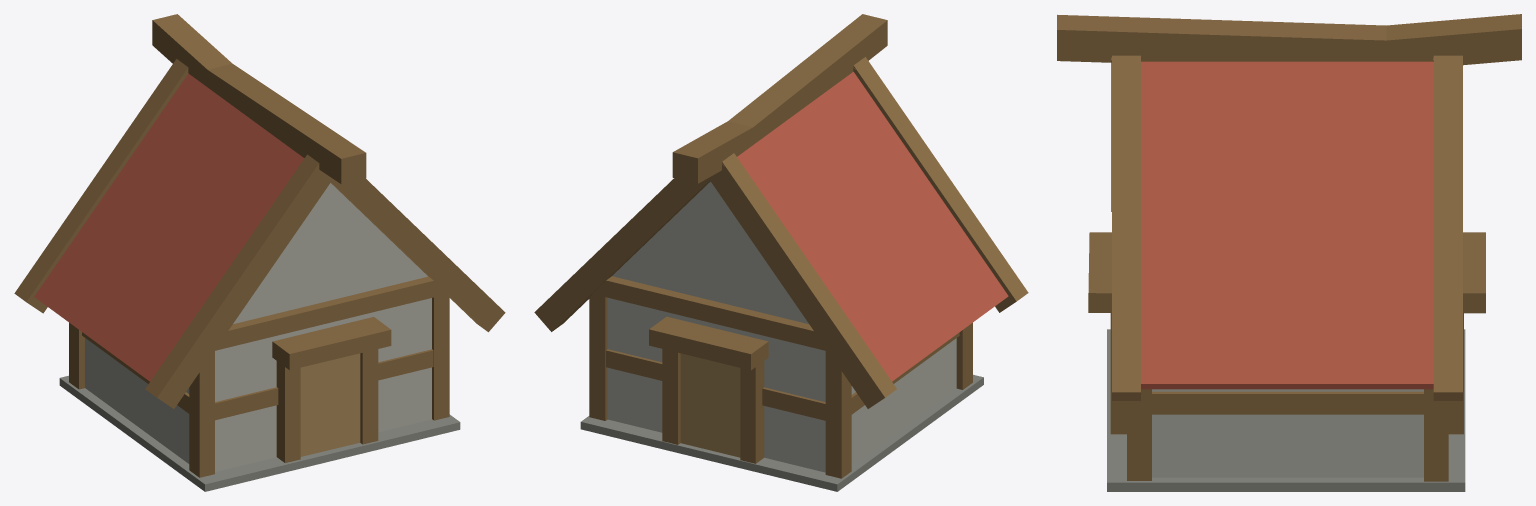
Rendered from Basic House.fbx.
The picture shows the model from 3 angles, left to right: view 1: azimuth 30°, elevation 25°; view 2: azimuth 150°, elevation 25°; view 3: azimuth 270°, elevation 25°; orthographic projection. The views are drawn at different scales.
Parts seen in each view (by area): view 1: Cube.025, Cube.027, Cube.021, Cube.022, Cube.031, Cube.020, Cube.023, Cube.004, Cube.029, Cube.018, Cube.005, Cube.009 (+6 smaller); view 2: Cube.025, Cube.028, Cube.023, Cube.022, Cube.031, Cube.024, Cube.021, Cube.003, Cube.029, Cube.019, Cube.002, Cube.008 (+6 smaller); view 3: Cube.026, Cube.022, Cube.030, Cube.024, Cube.020, Cube.031, Cube.014, Cube.011, Cube.010, Cube.005, Cube.002, Cube.006 (+1 smaller).
Boxes of the visible parts, bbox=[...] form: Cube.025: bbox=[34, 73, 304, 381]; Cube.027: bbox=[215, 183, 431, 471]; Cube.021: bbox=[145, 154, 332, 408]; Cube.022: bbox=[152, 14, 366, 184]; Cube.031: bbox=[59, 375, 460, 491]; Cube.020: bbox=[330, 178, 505, 332]; Cube.023: bbox=[14, 59, 188, 313]; Cube.004: bbox=[300, 353, 360, 456]; Cube.029: bbox=[85, 338, 189, 463]; Cube.018: bbox=[214, 276, 447, 350]; Cube.005: bbox=[272, 317, 391, 370]; Cube.009: bbox=[189, 351, 214, 477]; Cube.025: bbox=[737, 72, 1008, 381]; Cube.028: bbox=[607, 181, 825, 472]; Cube.023: bbox=[710, 153, 896, 408]; Cube.022: bbox=[672, 14, 887, 183]; Cube.031: bbox=[580, 374, 983, 491]; Cube.024: bbox=[534, 163, 724, 331]; Cube.021: bbox=[853, 57, 1028, 312]; Cube.003: bbox=[680, 353, 740, 457]; Cube.029: bbox=[851, 338, 956, 464]; Cube.019: bbox=[592, 276, 827, 351]; Cube.002: bbox=[649, 316, 768, 370]; Cube.008: bbox=[825, 351, 851, 478]; Cube.026: bbox=[1141, 61, 1433, 389]; Cube.022: bbox=[1057, 14, 1521, 65]; Cube.030: bbox=[1152, 389, 1423, 477]; Cube.024: bbox=[1433, 55, 1462, 400]; Cube.020: bbox=[1112, 55, 1140, 400]; Cube.031: bbox=[1107, 329, 1465, 491]; Cube.014: bbox=[1152, 391, 1423, 414]; Cube.011: bbox=[1424, 389, 1448, 481]; Cube.010: bbox=[1127, 389, 1151, 480]; Cube.005: bbox=[1088, 232, 1111, 312]; Cube.002: bbox=[1463, 232, 1485, 313]; Cube.006: bbox=[1110, 313, 1126, 434].
Bounding box in the file's own units: 392 × 344 × 368.
